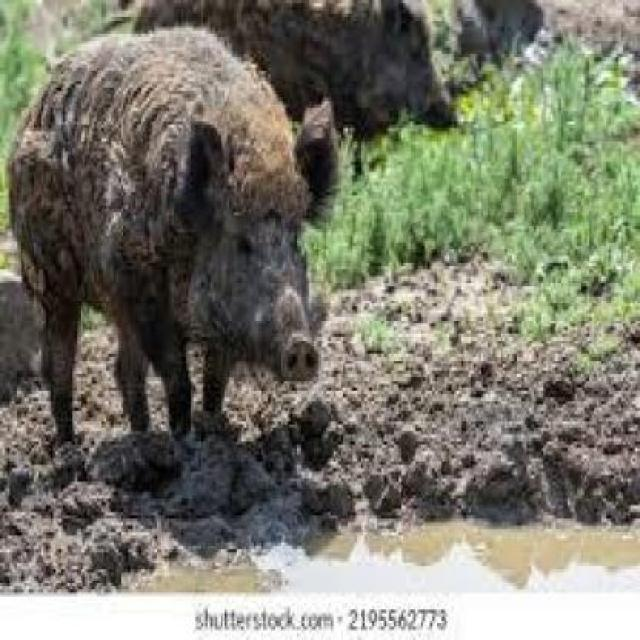wildboar: (3, 17, 339, 488), (98, 0, 470, 220)
